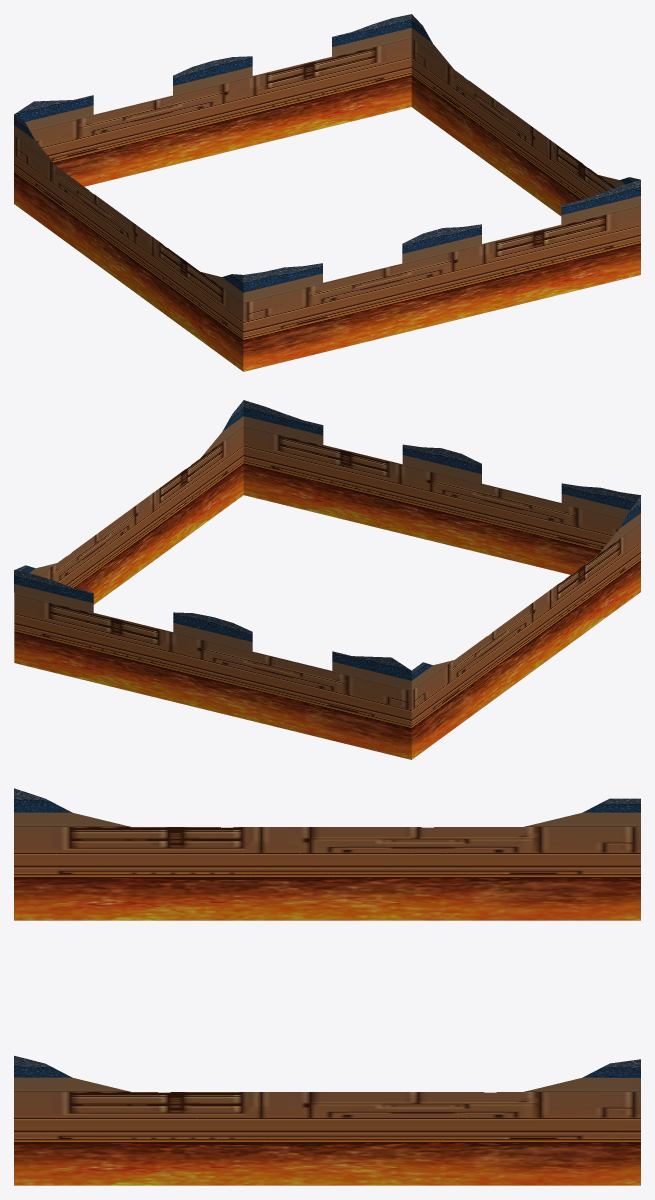
The picture shows the model from 3 angles, top to bottom: view 1: azimuth 30°, elevation 25°; view 2: azimuth 150°, elevation 25°; view 3: azimuth 270°, elevation 25°; orthographic projection. The views are drawn at different scales.
Visible parts, largest first — view 1: Joint_0_Object_3, Joint_0_Object_2, Joint_0_Object_1, Joint_0_Object_4, Joint_0_Object_0; view 2: Joint_0_Object_3, Joint_0_Object_2, Joint_0_Object_1, Joint_0_Object_4, Joint_0_Object_0; view 3: Joint_0_Object_2, Joint_0_Object_4, Joint_0_Object_1, Joint_0_Object_0.
Boxes of the visible parts, x1,y1,x2,y2 form: Joint_0_Object_3: (30,38,640,371); Joint_0_Object_2: (14,38,615,371); Joint_0_Object_1: (14,14,640,292); Joint_0_Object_4: (14,28,640,303); Joint_0_Object_0: (35,44,619,287); Joint_0_Object_3: (14,426,624,759); Joint_0_Object_2: (40,427,640,759); Joint_0_Object_1: (14,400,640,680); Joint_0_Object_4: (14,416,640,691); Joint_0_Object_0: (35,432,619,675); Joint_0_Object_2: (14,827,640,1185); Joint_0_Object_4: (14,812,640,1091); Joint_0_Object_1: (14,788,640,1077); Joint_0_Object_0: (72,813,582,1091).
Bounding box in the file's own units: 10009 × 2348 × 10000.
